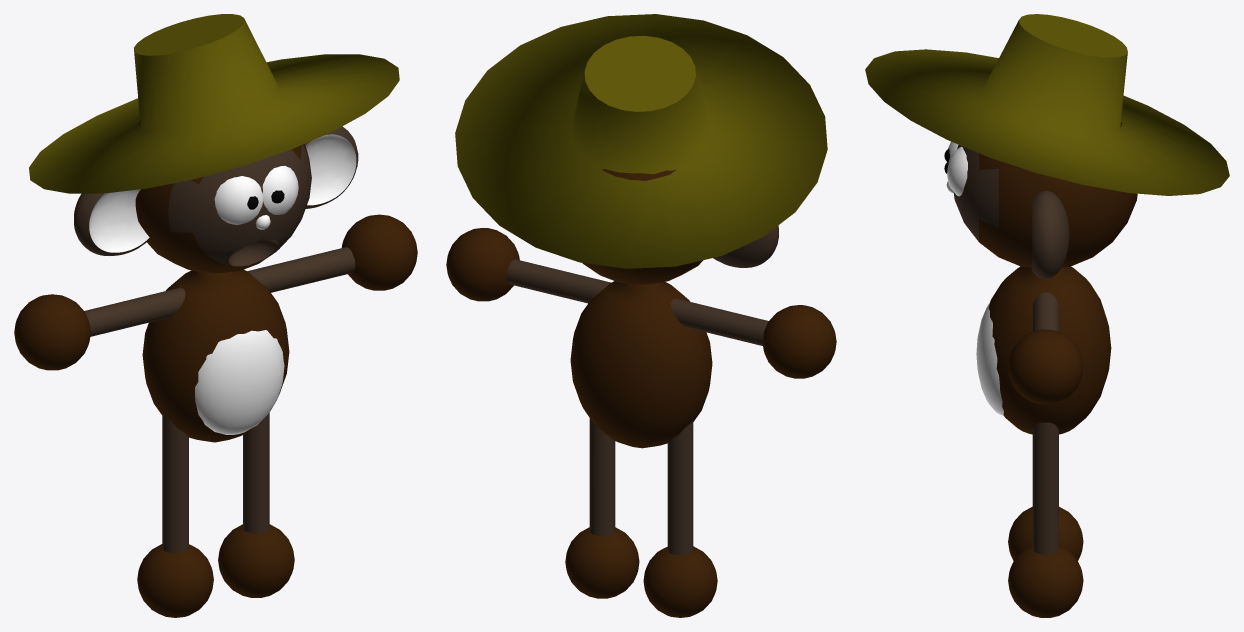
File: Monkey.FBX
The picture shows the model from 3 angles, left to right: view 1: azimuth 30°, elevation 25°; view 2: azimuth 150°, elevation 25°; view 3: azimuth 270°, elevation 25°; orthographic projection. The views are drawn at different scales.
Visible parts, largest first — view 1: Body; view 2: Body; view 3: Body.
Part boxes in pixels (x1,y1,x2,y2): Body: [14, 14, 417, 617]; Body: [446, 14, 836, 617]; Body: [865, 14, 1229, 617].
Size of the model in its own units: 5.92 by 8.32 by 4.83.
